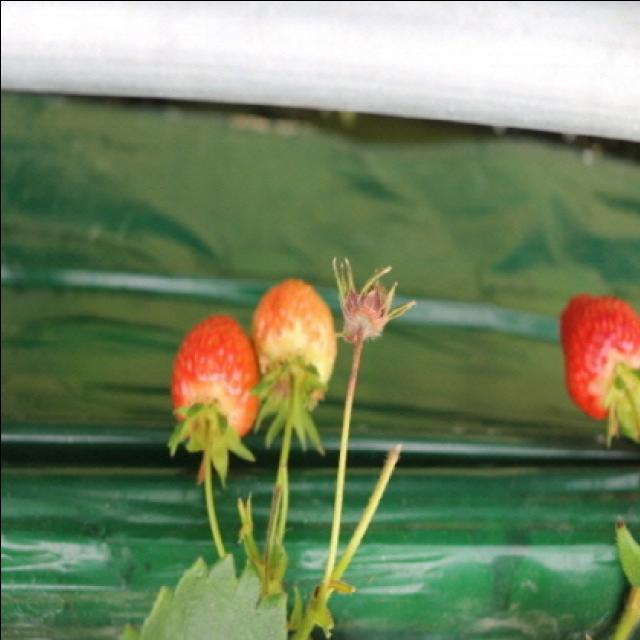Gray Mold: (331, 255, 416, 359)
